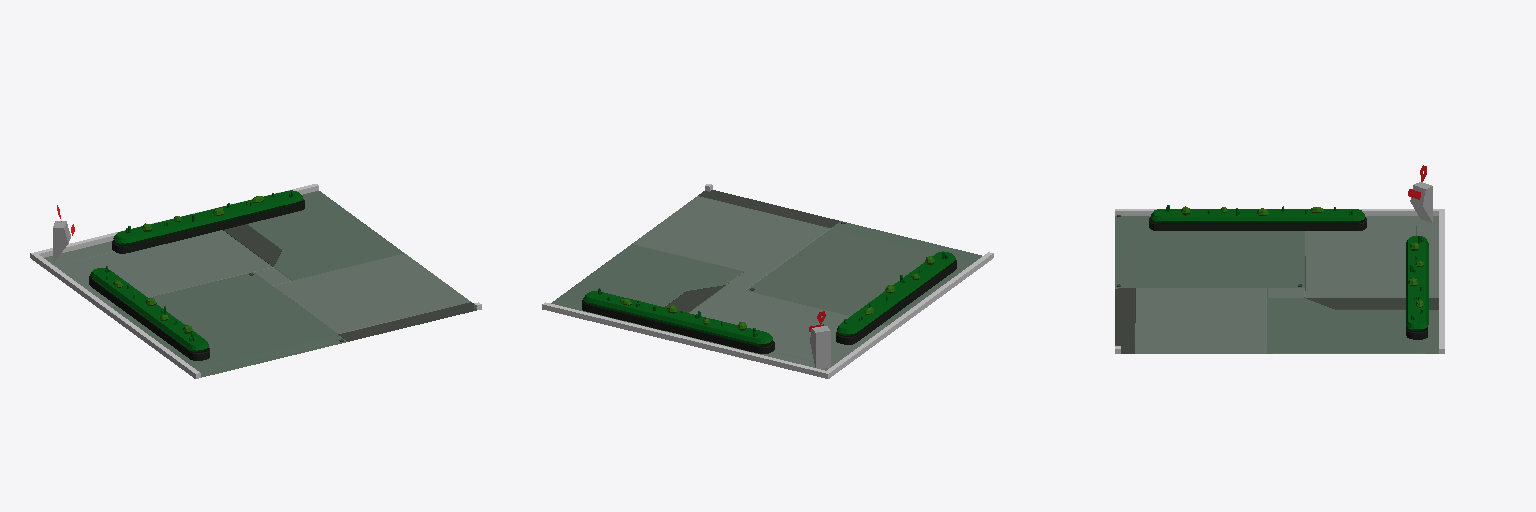
The picture shows the model from 3 angles: view 1: azimuth 30°, elevation 25°; view 2: azimuth 150°, elevation 25°; view 3: azimuth 270°, elevation 25°; orthographic projection.
Parts seen in each view (by area): view 1: Scifi_Panel_04_Plaza014_group4.016_Scifi_Panel_04_Plaza014_group, TreePatch_Plaza014_group3.033_TreePatch_Plaza014_group3.031, TreePatch_Plaza014_group3.032_TreePatch_Plaza014_group3.030, Cube.649_Cube.769, panel.011_panel.018; view 2: Scifi_Panel_04_Plaza014_group4.016_Scifi_Panel_04_Plaza014_group, TreePatch_Plaza014_group3.033_TreePatch_Plaza014_group3.031, Cube.649_Cube.769, TreePatch_Plaza014_group3.032_TreePatch_Plaza014_group3.030, panel.011_panel.018; view 3: Scifi_Panel_04_Plaza014_group4.016_Scifi_Panel_04_Plaza014_group, TreePatch_Plaza014_group3.032_TreePatch_Plaza014_group3.030, TreePatch_Plaza014_group3.033_TreePatch_Plaza014_group3.031, Cube.649_Cube.769, panel.011_panel.018.
Boxes of the visible parts, x1,y1,x2,y2 form: Scifi_Panel_04_Plaza014_group4.016_Scifi_Panel_04_Plaza014_group: [44, 191, 475, 377]; TreePatch_Plaza014_group3.033_TreePatch_Plaza014_group3.031: [112, 190, 304, 253]; TreePatch_Plaza014_group3.032_TreePatch_Plaza014_group3.030: [89, 268, 209, 360]; Cube.649_Cube.769: [30, 184, 318, 378]; panel.011_panel.018: [53, 205, 74, 263]; Scifi_Panel_04_Plaza014_group4.016_Scifi_Panel_04_Plaza014_group: [551, 190, 981, 370]; TreePatch_Plaza014_group3.033_TreePatch_Plaza014_group3.031: [582, 291, 774, 353]; Cube.649_Cube.769: [542, 252, 993, 378]; TreePatch_Plaza014_group3.032_TreePatch_Plaza014_group3.030: [836, 252, 956, 344]; panel.011_panel.018: [809, 311, 830, 368]; Scifi_Panel_04_Plaza014_group4.016_Scifi_Panel_04_Plaza014_group: [1115, 215, 1438, 353]; TreePatch_Plaza014_group3.032_TreePatch_Plaza014_group3.030: [1149, 209, 1366, 230]; TreePatch_Plaza014_group3.033_TreePatch_Plaza014_group3.031: [1406, 236, 1428, 339]; Cube.649_Cube.769: [1115, 209, 1444, 353]; panel.011_panel.018: [1408, 165, 1432, 222].
Size of the model in its own units: 10 by 1.89 by 10.